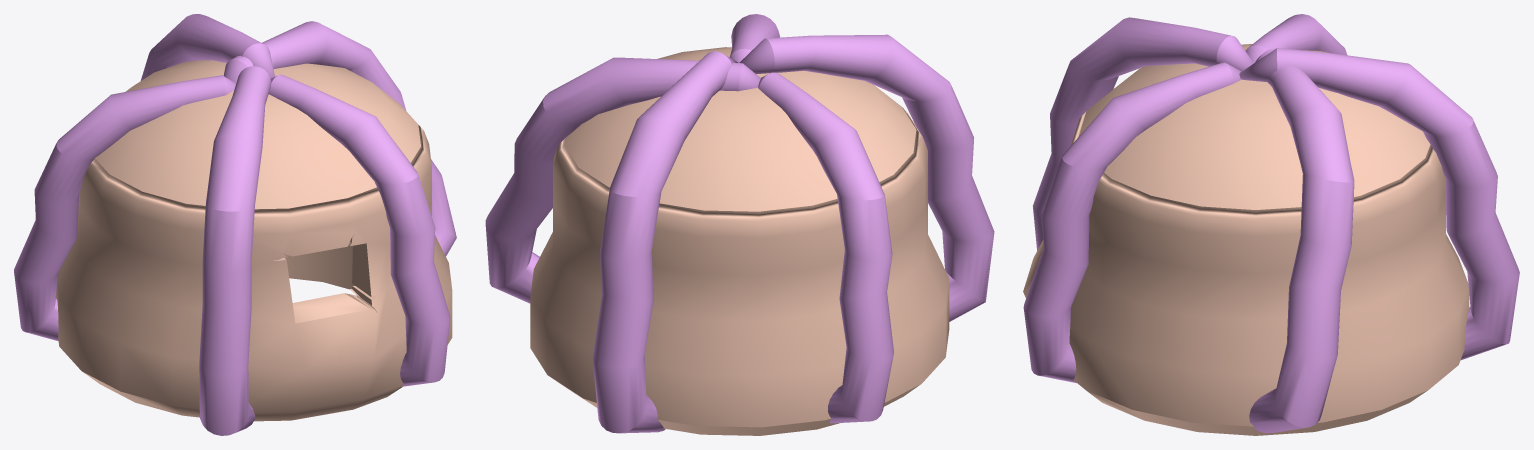
File: Mamahouse1.fbx
The picture shows the model from 3 angles, left to right: view 1: azimuth 30°, elevation 25°; view 2: azimuth 150°, elevation 25°; view 3: azimuth 270°, elevation 25°; orthographic projection. The views are drawn at different scales.
Visible parts, largest first — view 1: House1; view 2: House1; view 3: House1.
Boxes of the visible parts, bbox=[...] form: House1: bbox=[14, 14, 456, 435]; House1: bbox=[485, 14, 994, 435]; House1: bbox=[1023, 14, 1519, 435].
Size of the model in its own units: 66.33 by 47.2 by 65.9.
